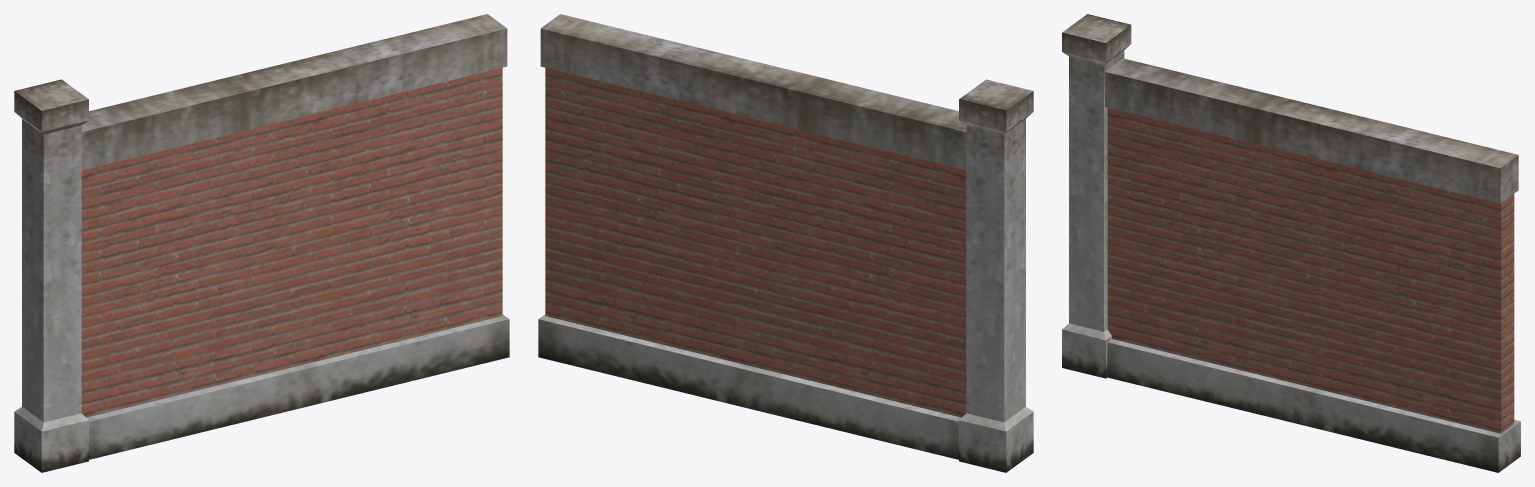
The model's file is Wall1.glb.
The picture shows the model from 3 angles, left to right: view 1: azimuth 30°, elevation 25°; view 2: azimuth 150°, elevation 25°; view 3: azimuth 330°, elevation 25°; orthographic projection. The views are drawn at different scales.
Visible parts, largest first — view 1: Wall_1; view 2: Wall_1; view 3: Wall_1.
Part boxes in pixels (box(x1,y1,x2,y2)): Wall_1: box(14, 14, 509, 472); Wall_1: box(538, 14, 1033, 472); Wall_1: box(1062, 14, 1520, 472).
Bounding box in the file's own units: 358 × 264 × 36.03.
Materials: 2 (2 with a texture image).
